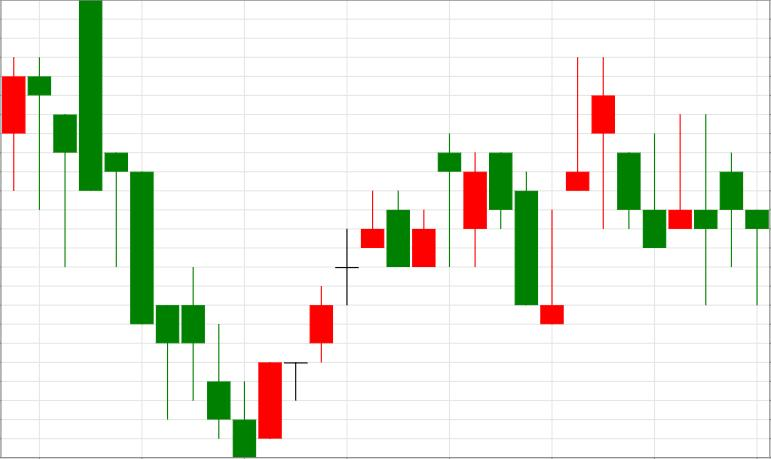hammer_rise: (28, 0, 179, 419)
inverse_hammer_rise: (28, 0, 230, 439)
shooting_star_fall: (258, 191, 384, 439)
